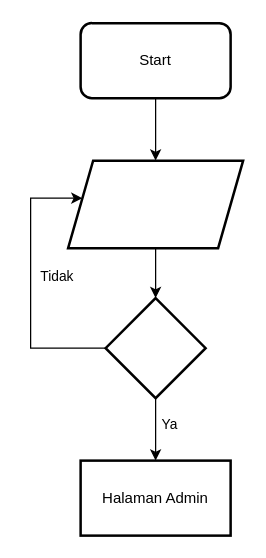
Some shapes in this 266 by 558 pixel diagram are drawn without their labels. The shapes that lost their labels are listed below. From the top down, each one's centre as x and y in pixels, then its label:
(x=155, y=204): Input username dan password
(x=155, y=347): Login
